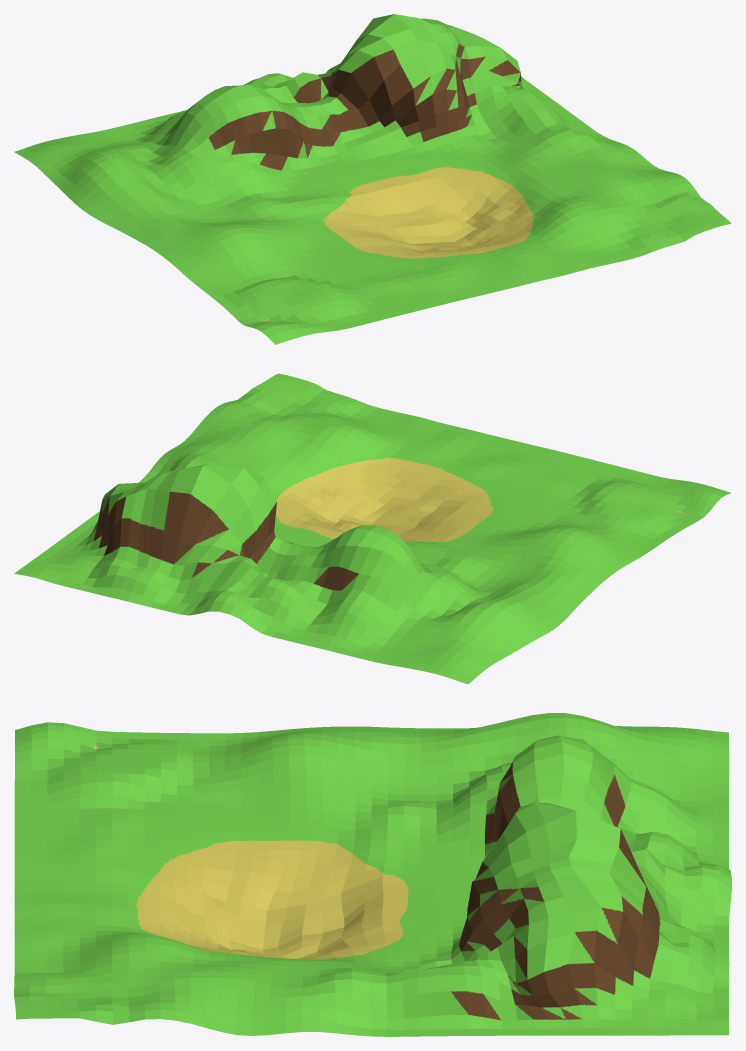
The model's file is greenary.glb.
The picture shows the model from 3 angles, top to bottom: view 1: azimuth 30°, elevation 25°; view 2: azimuth 150°, elevation 25°; view 3: azimuth 270°, elevation 25°; orthographic projection. The views are drawn at different scales.
Parts seen in each view (by area): view 1: Plane; view 2: Plane; view 3: Plane.
Boxes of the visible parts, x1,y1,x2,y2 form: Plane: (14,14,731,344); Plane: (14,373,731,684); Plane: (14,713,731,1036).
Bounding box in the file's own units: 62.2 × 16.27 × 60.3.
1 material, 1 textured.
